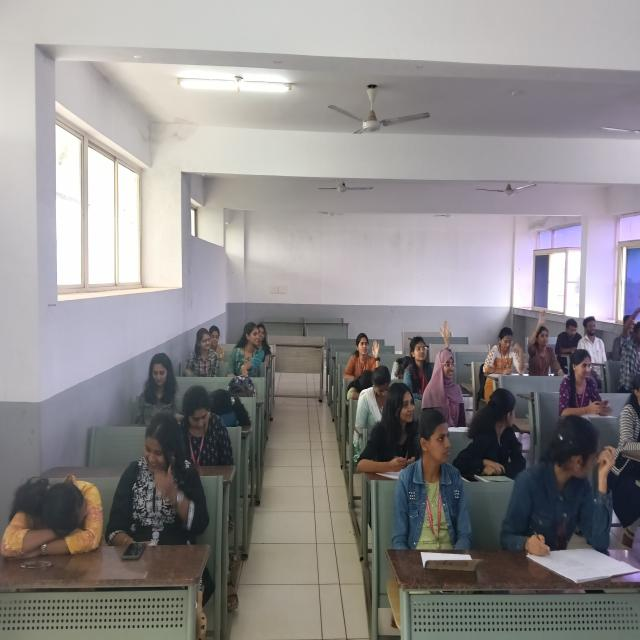Hand Rising: (528, 308, 564, 374), (342, 330, 382, 379)
Sleeping: (4, 473, 106, 569)
Using Phone: (560, 348, 616, 422), (135, 352, 183, 428)
Writing: (482, 325, 526, 381)
